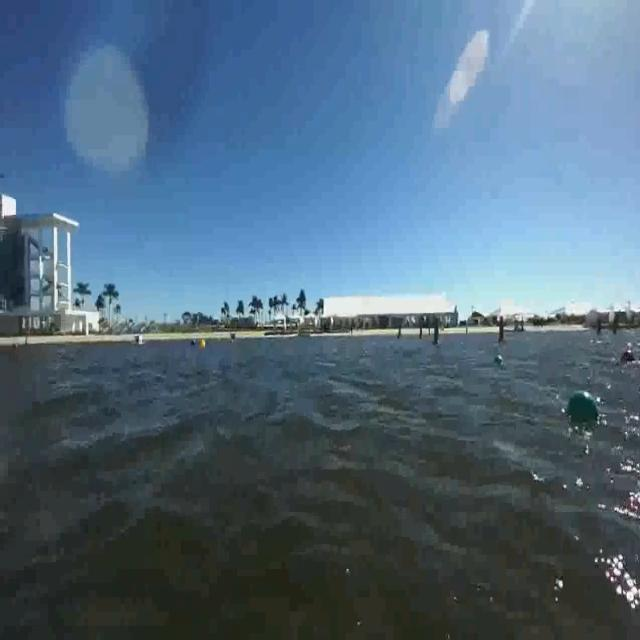black-buoy: (621, 344, 636, 364)
green-buoy: (567, 392, 598, 427)
green-column-buoy: (431, 320, 441, 348)
red-column-buoy: (419, 323, 424, 340)
yellow-buoy: (201, 338, 207, 351)
